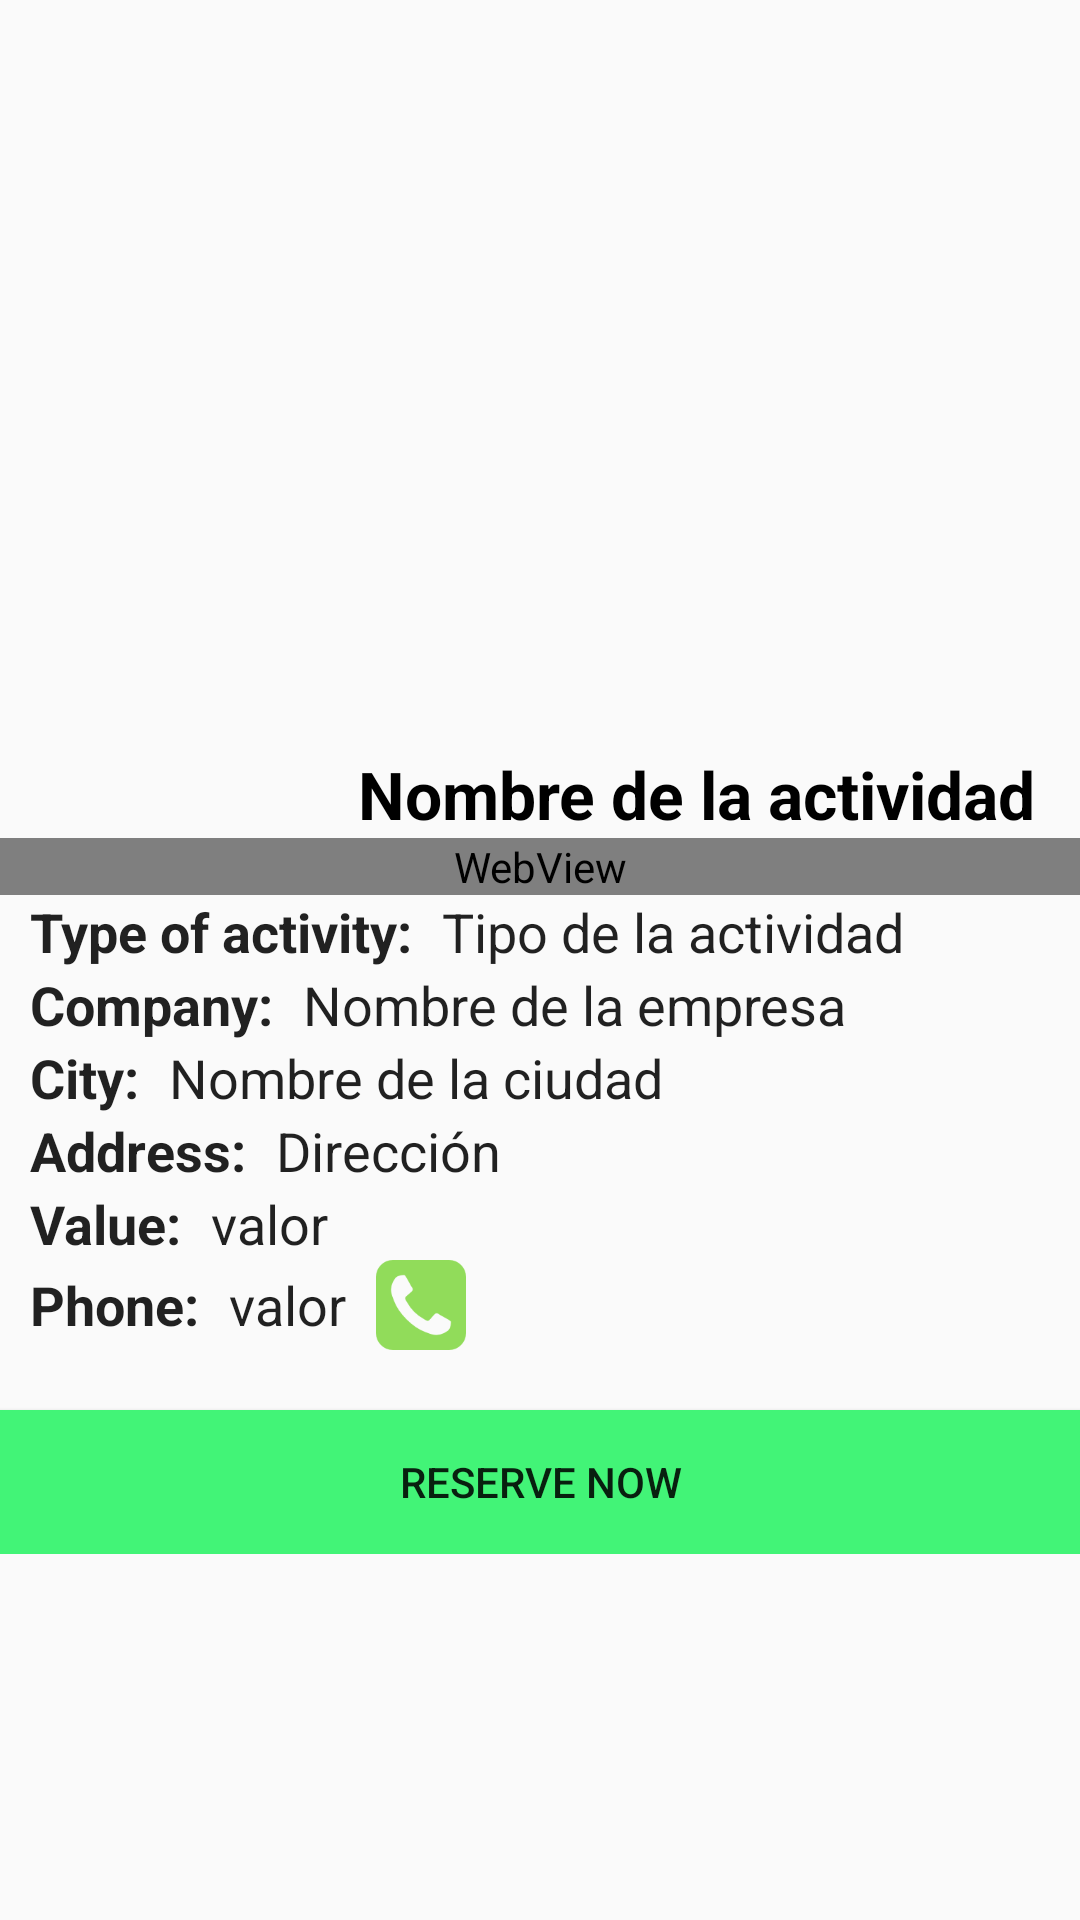

Named icons in this screenshot (1080w x 1920h) and their bounding boxes, (x1, y1, x2, y2):
call: (376, 1260, 466, 1350)
